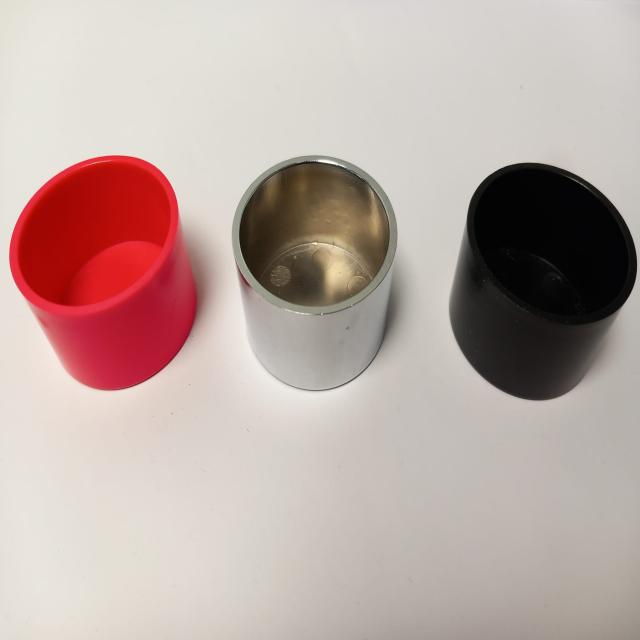NoLid: (449, 147, 640, 420), (8, 152, 208, 392), (226, 148, 408, 408)
